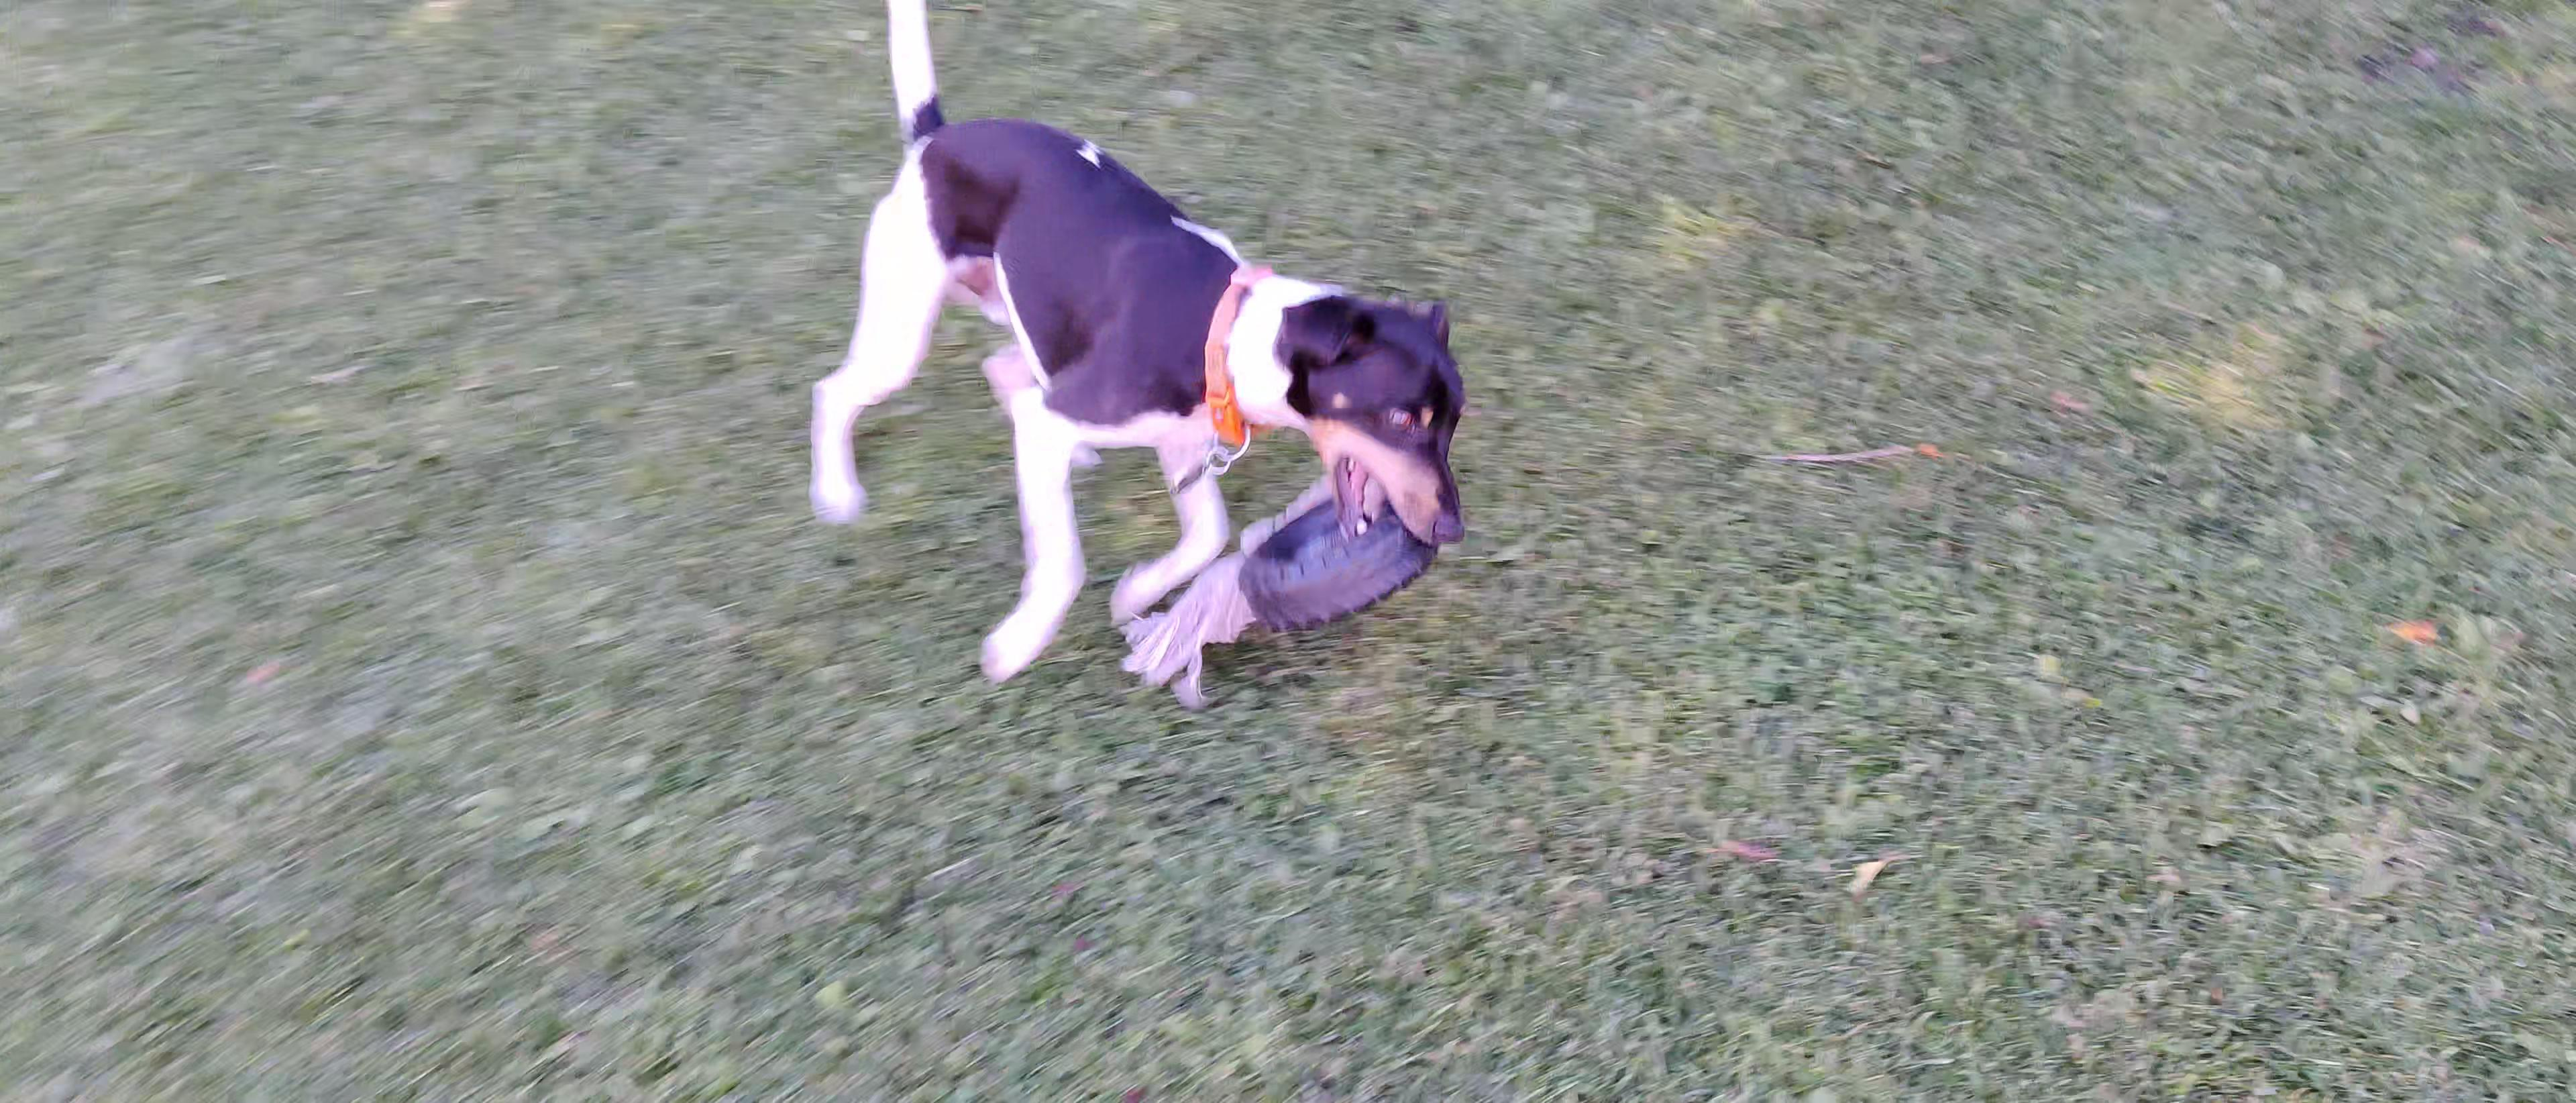Dog: (766, 0, 1488, 707)
